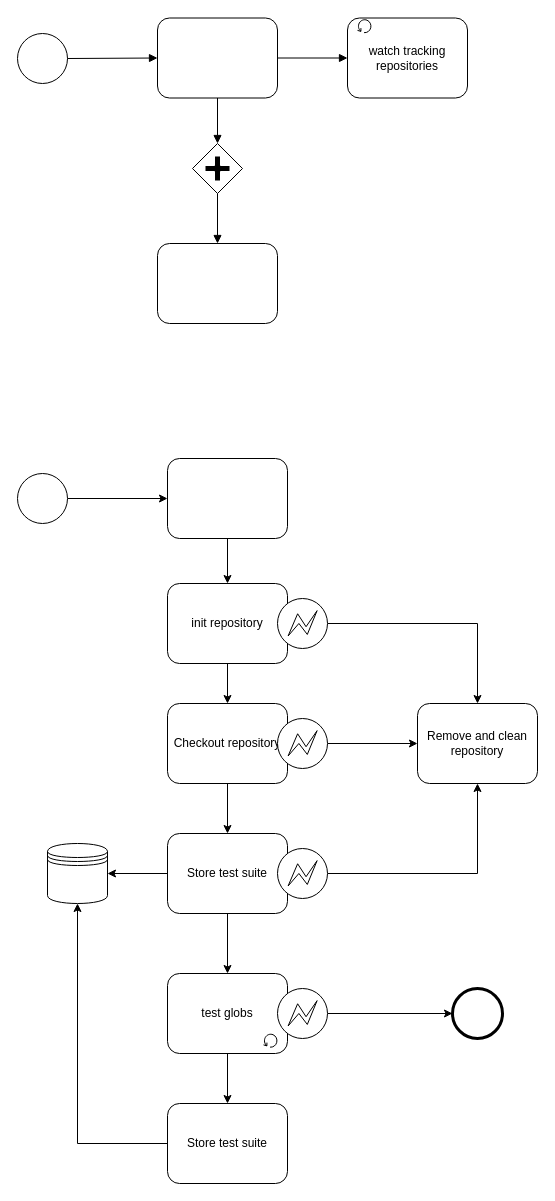
The diagram is 555 pixels wide and 1201 high, and some of its shapes have lost their labels. Each missing label, with the centre of its shape:
Init tracking repositories: point (217, 57)
recieve create repository request: point (227, 498)
Start server: point (217, 283)
